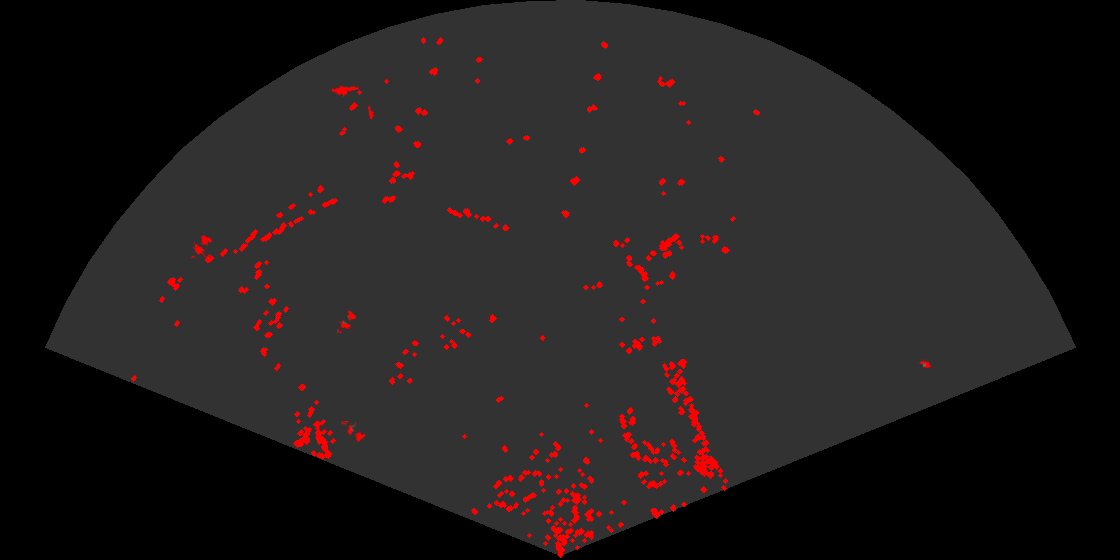AUV: (918, 359, 932, 369)
cage: (189, 234, 214, 258), (341, 421, 367, 444), (337, 309, 358, 333)
frogman: (332, 84, 359, 98), (366, 104, 375, 119)
